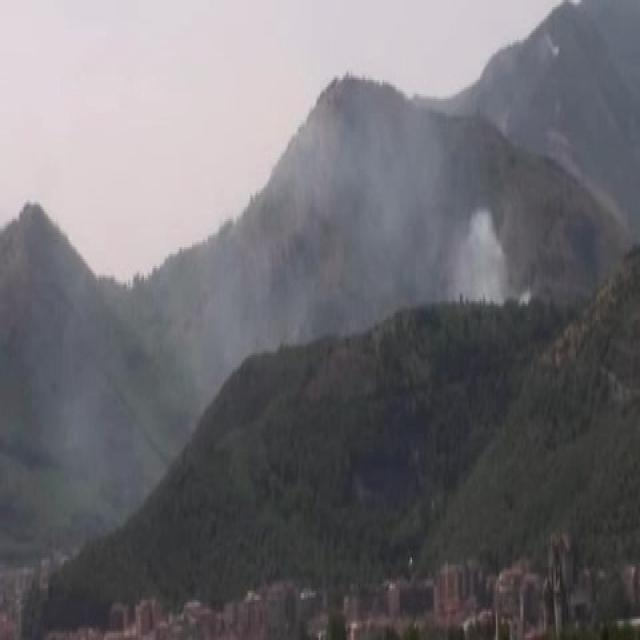Smoke: (296, 118, 514, 306)
